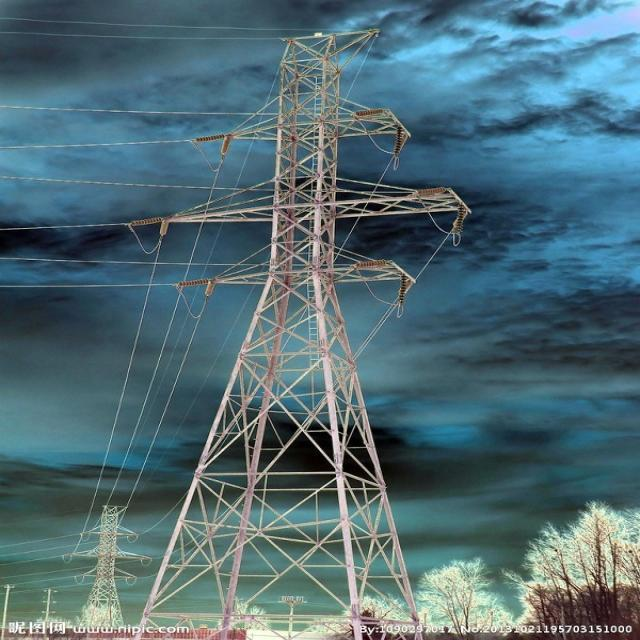non-critical vegetation: (161, 41, 443, 632), (70, 506, 150, 624)
